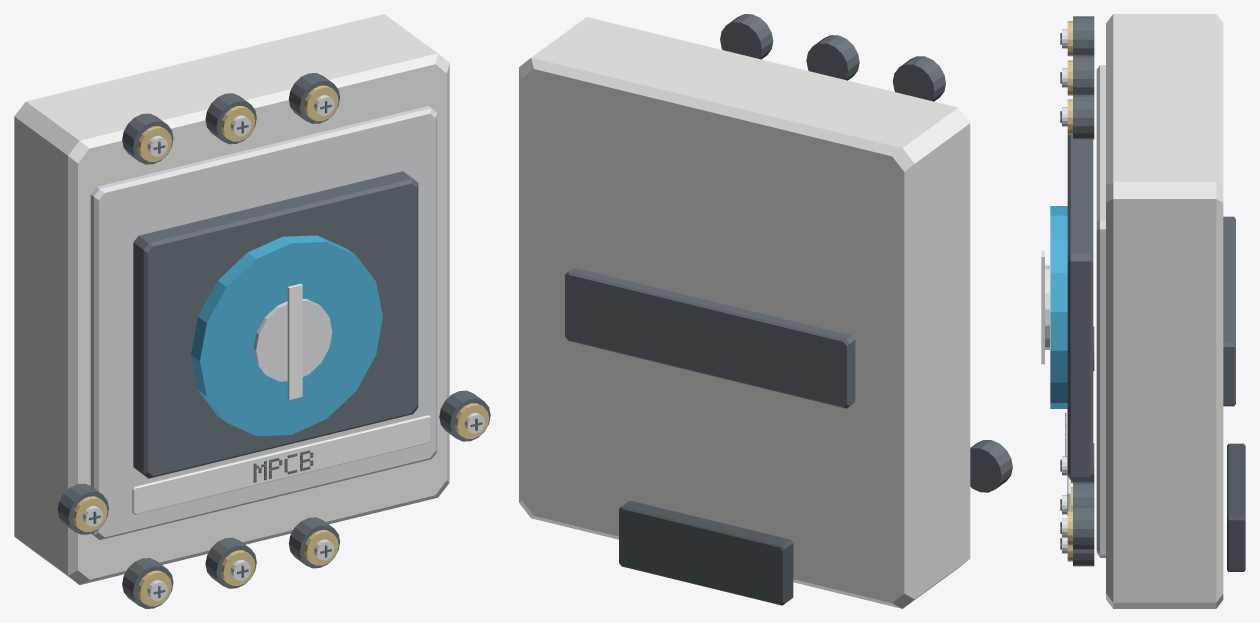
Rendered from motorBreaker.glb.
3 views of the same model, side by side, from view 1: azimuth 30°, elevation 25°; view 2: azimuth 150°, elevation 25°; view 3: azimuth 270°, elevation 25° (orthographic). The views are drawn at different scales.
Visible parts, largest first — view 1: motorBreaker-preview; view 2: motorBreaker-preview; view 3: motorBreaker-preview.
Boxes of the visible parts, x1,y1,x2,y2 form: motorBreaker-preview: [14, 14, 490, 608]; motorBreaker-preview: [519, 14, 1012, 608]; motorBreaker-preview: [1041, 14, 1245, 608].
Bounding box in the file's own units: 3.27 × 3.61 × 1.43.
